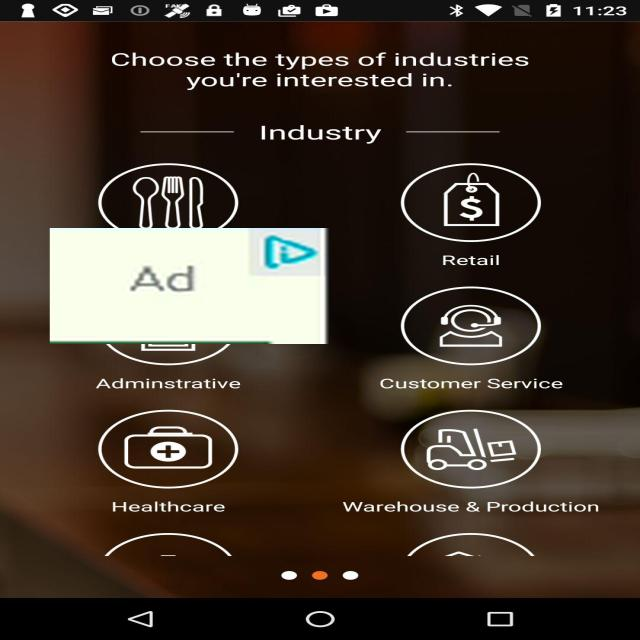sneaking: (50, 228, 330, 344)
